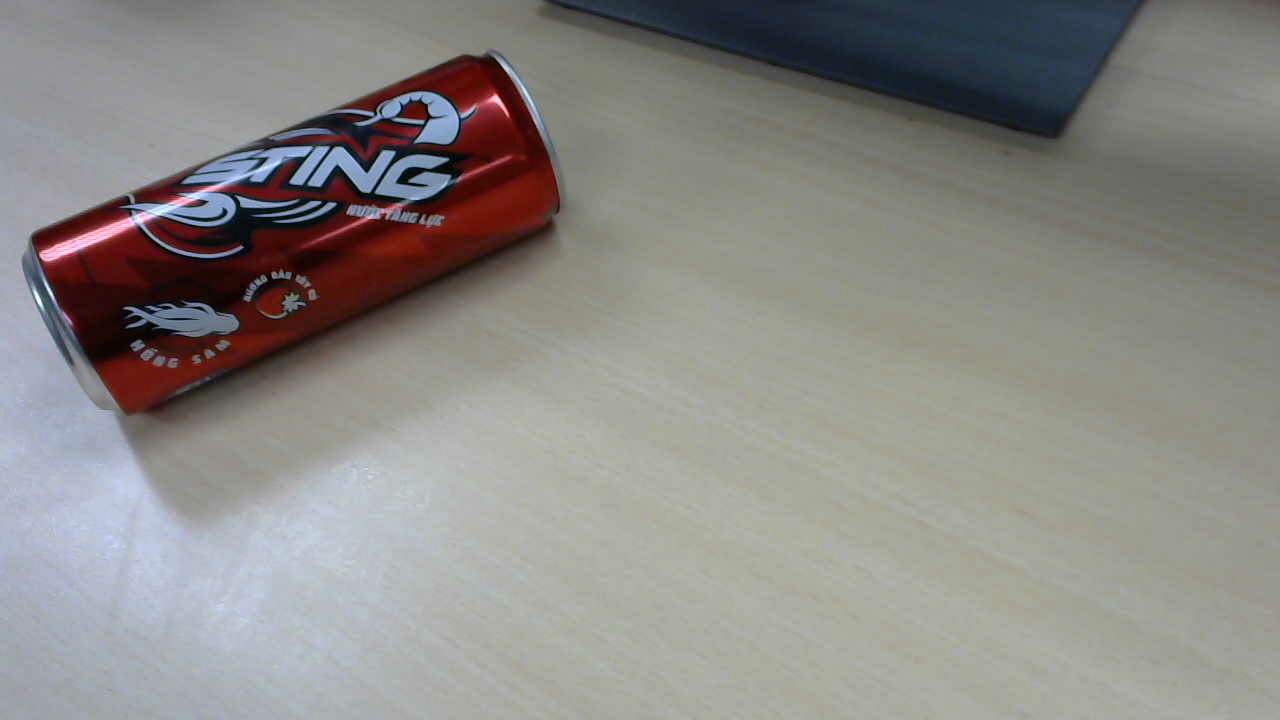Sting: (27, 53, 571, 420)
